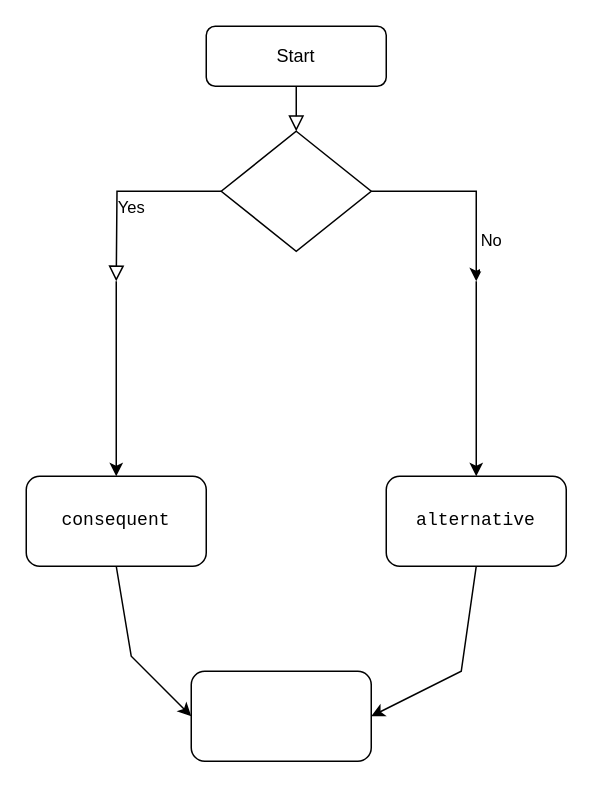
Some shapes in this 593 by 788 pixel diagram are drawn without their labels. Here are the shapes that lost their labels. From the top down, the box of each, then its label:
(220, 130, 371, 251): if(x > 4)
(190, 670, 371, 761): end
